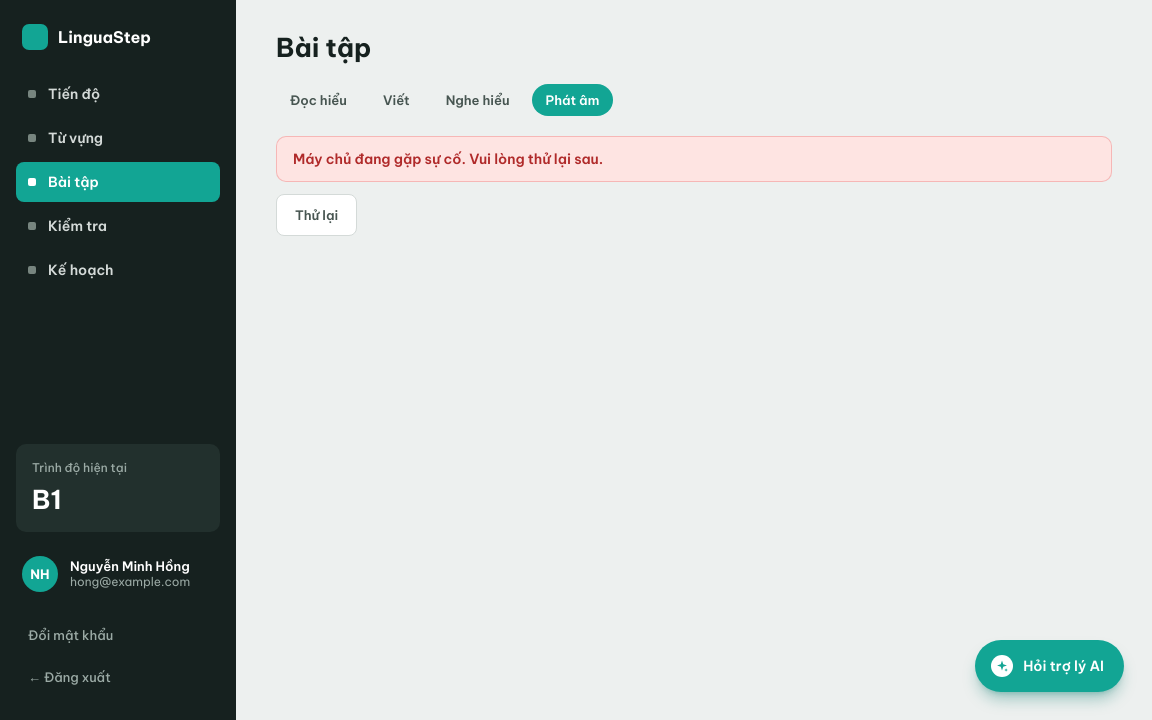
lesson list › says when a skill has no lessons yet, and offers a retry when loading fails
This screenshot has width=1152, height=720.
Expected: the message shows "Máy chủ đang gặp sự cố", 293,150 -> 603,168
Click the button "Thử lại": (317, 215) 276,194 -> 357,236
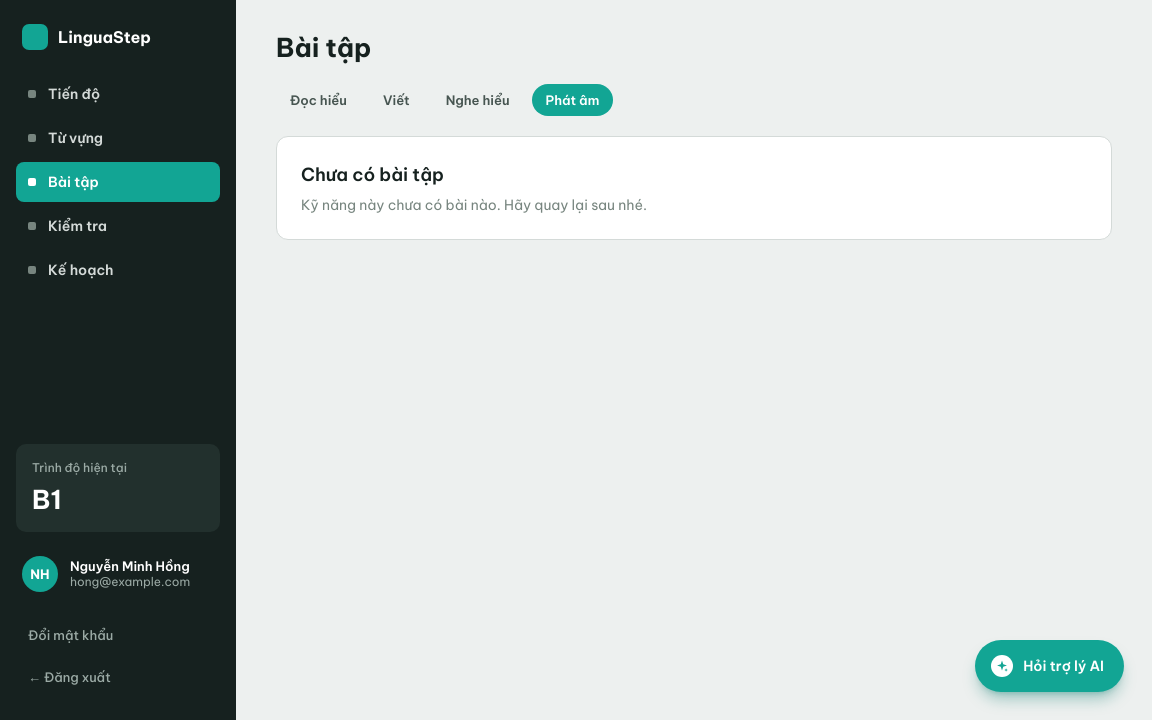
Now the heading "Chưa có bài tập" is shown, box 301,163 -> 444,186
